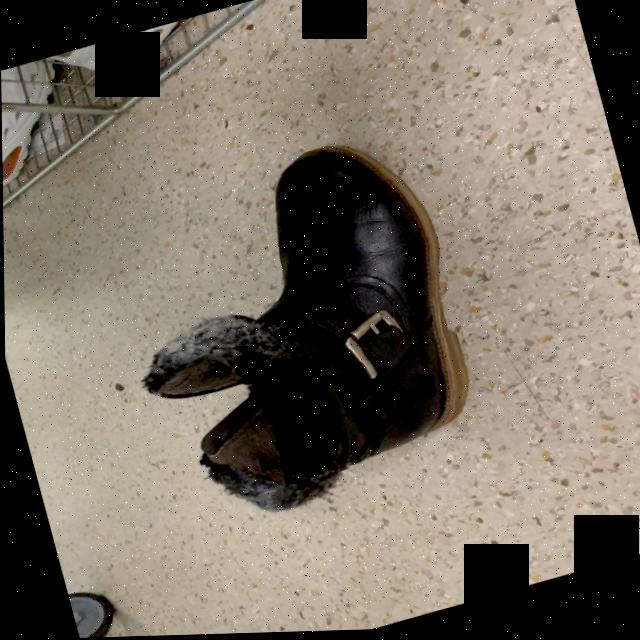shoe: (265, 147, 467, 468)
